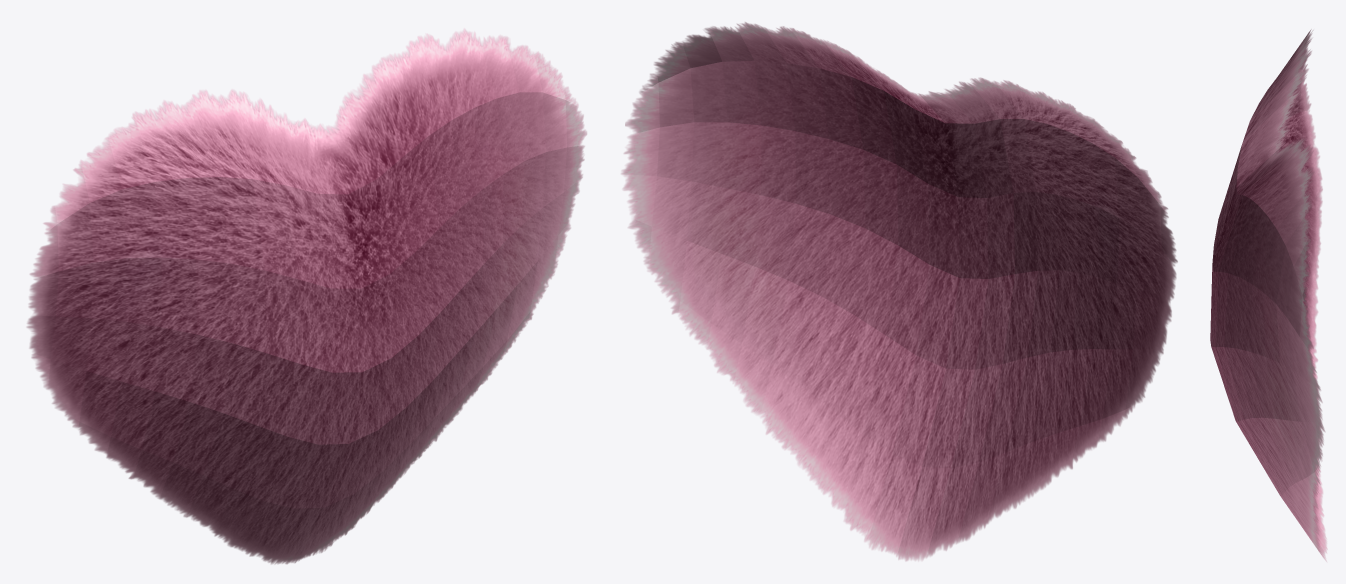
Rendered from heart_F.glb.
3 views of the same model, side by side, from view 1: azimuth 30°, elevation 25°; view 2: azimuth 150°, elevation 25°; view 3: azimuth 270°, elevation 25° (orthographic). The views are drawn at different scales.
Parts seen in each view (by area): view 1: 平面; view 2: 平面; view 3: 平面.
Boxes of the visible parts, x1=… form: 平面: x1=26, y1=28, x2=586, y2=564; 平面: x1=621, y1=22, x2=1177, y2=561; 平面: x1=1210, y1=29, x2=1327, y2=561.
Size of the model in its own units: 4.79 by 4.23 by 0.9827.
1 material, 1 textured.
